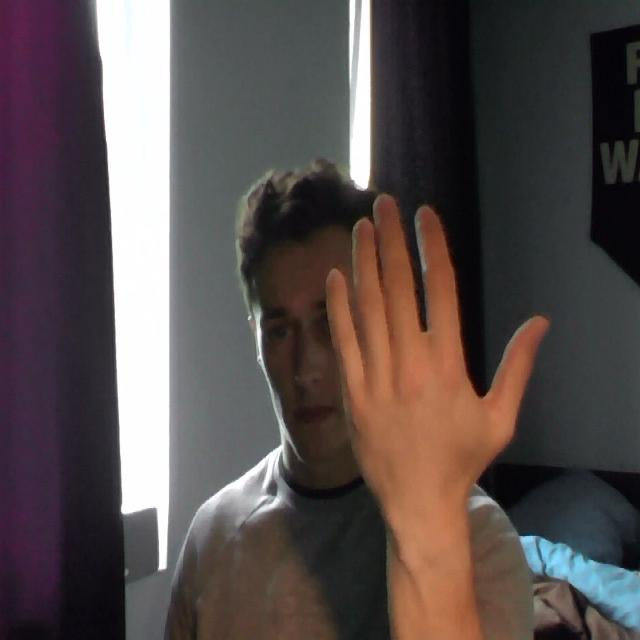forward: (305, 186, 551, 530)
